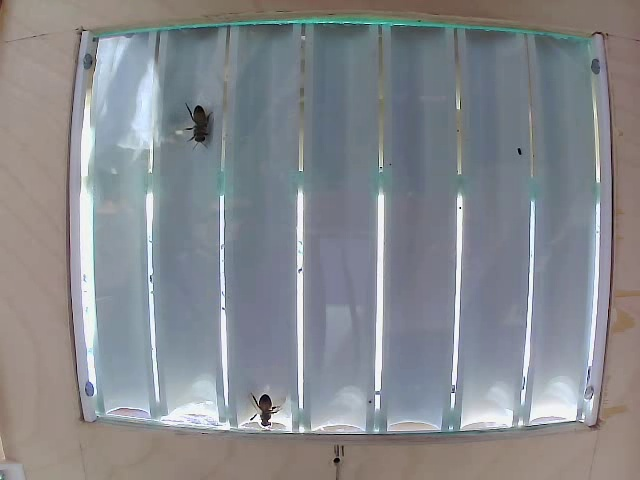bee: (245, 383, 289, 428), (187, 97, 215, 144)
